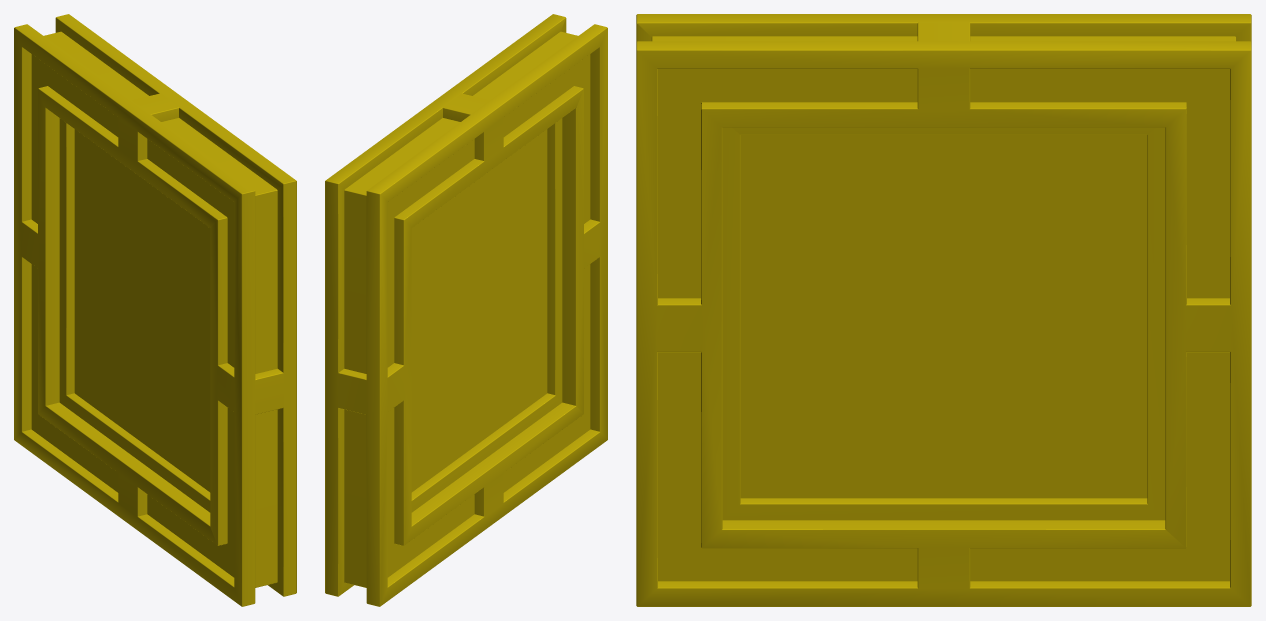
Rendered from Platform Indent.fbx.
3 views of the same model, side by side, from view 1: azimuth 30°, elevation 25°; view 2: azimuth 150°, elevation 25°; view 3: azimuth 270°, elevation 25° (orthographic). The views are drawn at different scales.
Parts seen in each view (by area): view 1: SM_Platform_Indent; view 2: SM_Platform_Indent; view 3: SM_Platform_Indent.
Boxes of the visible parts, x1,y1,x2,y2 form: SM_Platform_Indent: [14, 14, 296, 606]; SM_Platform_Indent: [325, 14, 607, 606]; SM_Platform_Indent: [636, 14, 1251, 606].
Size of the model in its own units: 81.51 by 582 by 582.
